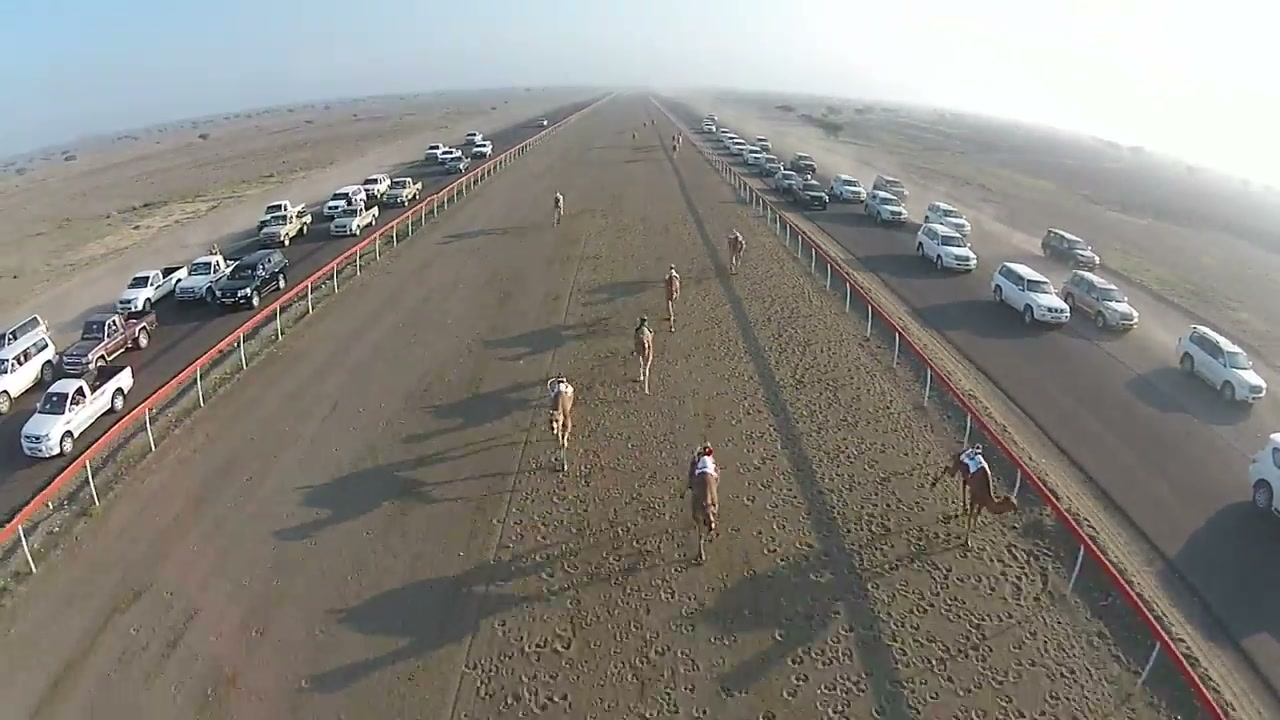animal_foot_print: (711, 257, 1119, 719), (519, 460, 622, 718)
